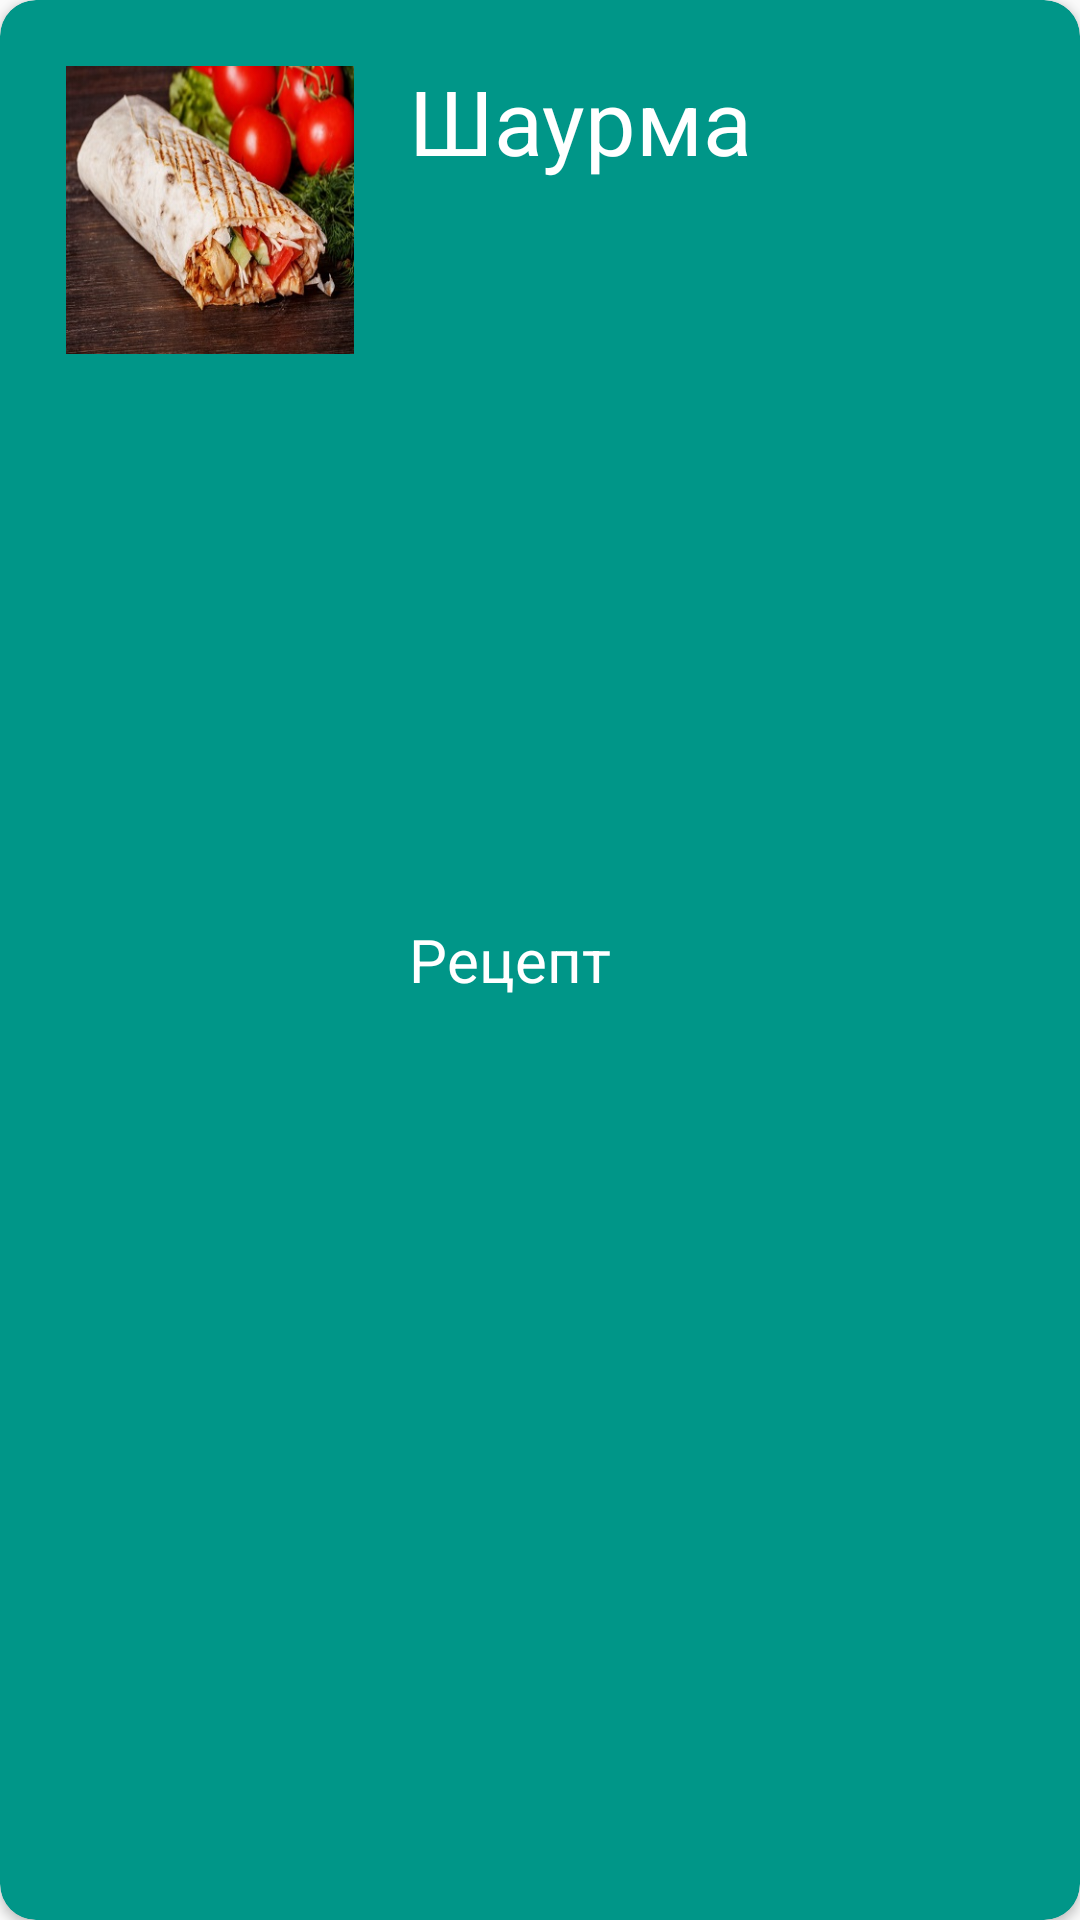

Screen size 1080×1920. Icon name, then its box in pixels as box(x1, y1, x2, y2):
shaurma: box(66, 66, 354, 354)
